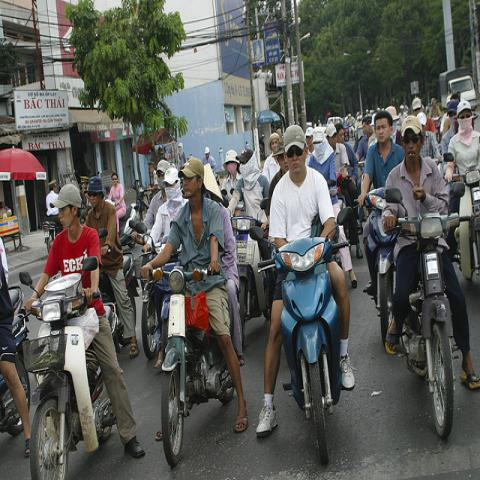motorcycle: (19, 188, 477, 471), (248, 228, 346, 466), (219, 186, 278, 350), (359, 195, 399, 341), (132, 223, 169, 359), (98, 228, 140, 344), (443, 153, 480, 280), (1, 315, 32, 437), (365, 212, 381, 306), (119, 203, 140, 248), (338, 195, 355, 247), (42, 221, 64, 254)
truck: (438, 64, 478, 112)
